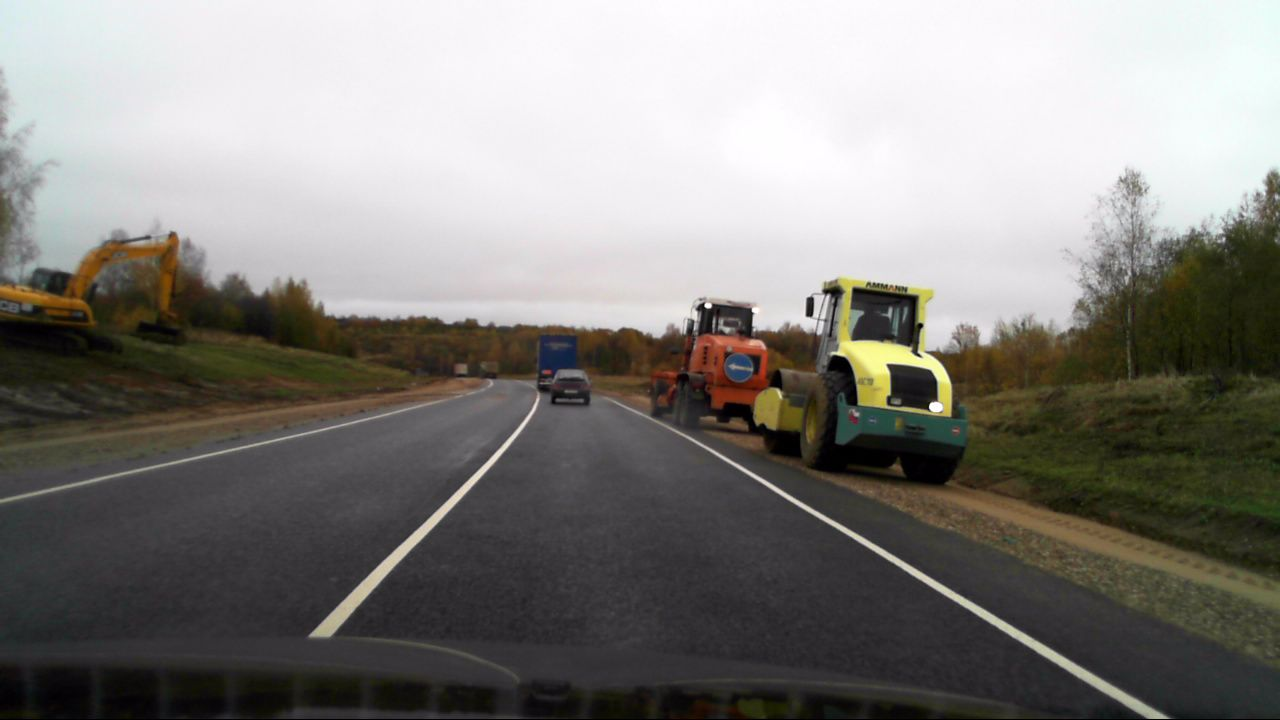Turn Left: (725, 353, 754, 382)
